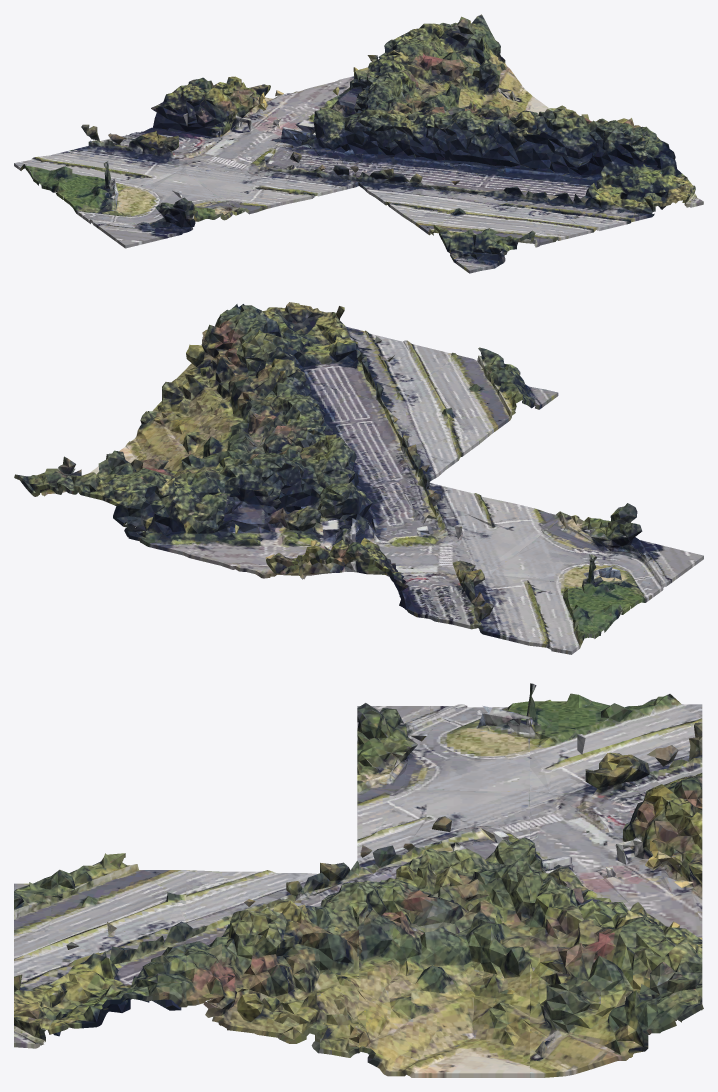
Rendered from Split5.fbx.
3 renders of one model, top to bottom at view 1: azimuth 30°, elevation 25°; view 2: azimuth 150°, elevation 25°; view 3: azimuth 270°, elevation 25°, orthographic. The views are drawn at different scales.
Visible parts, largest first — view 1: BuildingMesh-00174; view 2: BuildingMesh-00174; view 3: BuildingMesh-00174.
Boxes of the visible parts, bbox=[...] form: BuildingMesh-00174: bbox=[14, 14, 703, 273]; BuildingMesh-00174: bbox=[14, 302, 703, 654]; BuildingMesh-00174: bbox=[14, 683, 703, 1077].
Size of the model in its own units: 195 by 29.8 by 160.
Materials: 5 (5 with a texture image).
